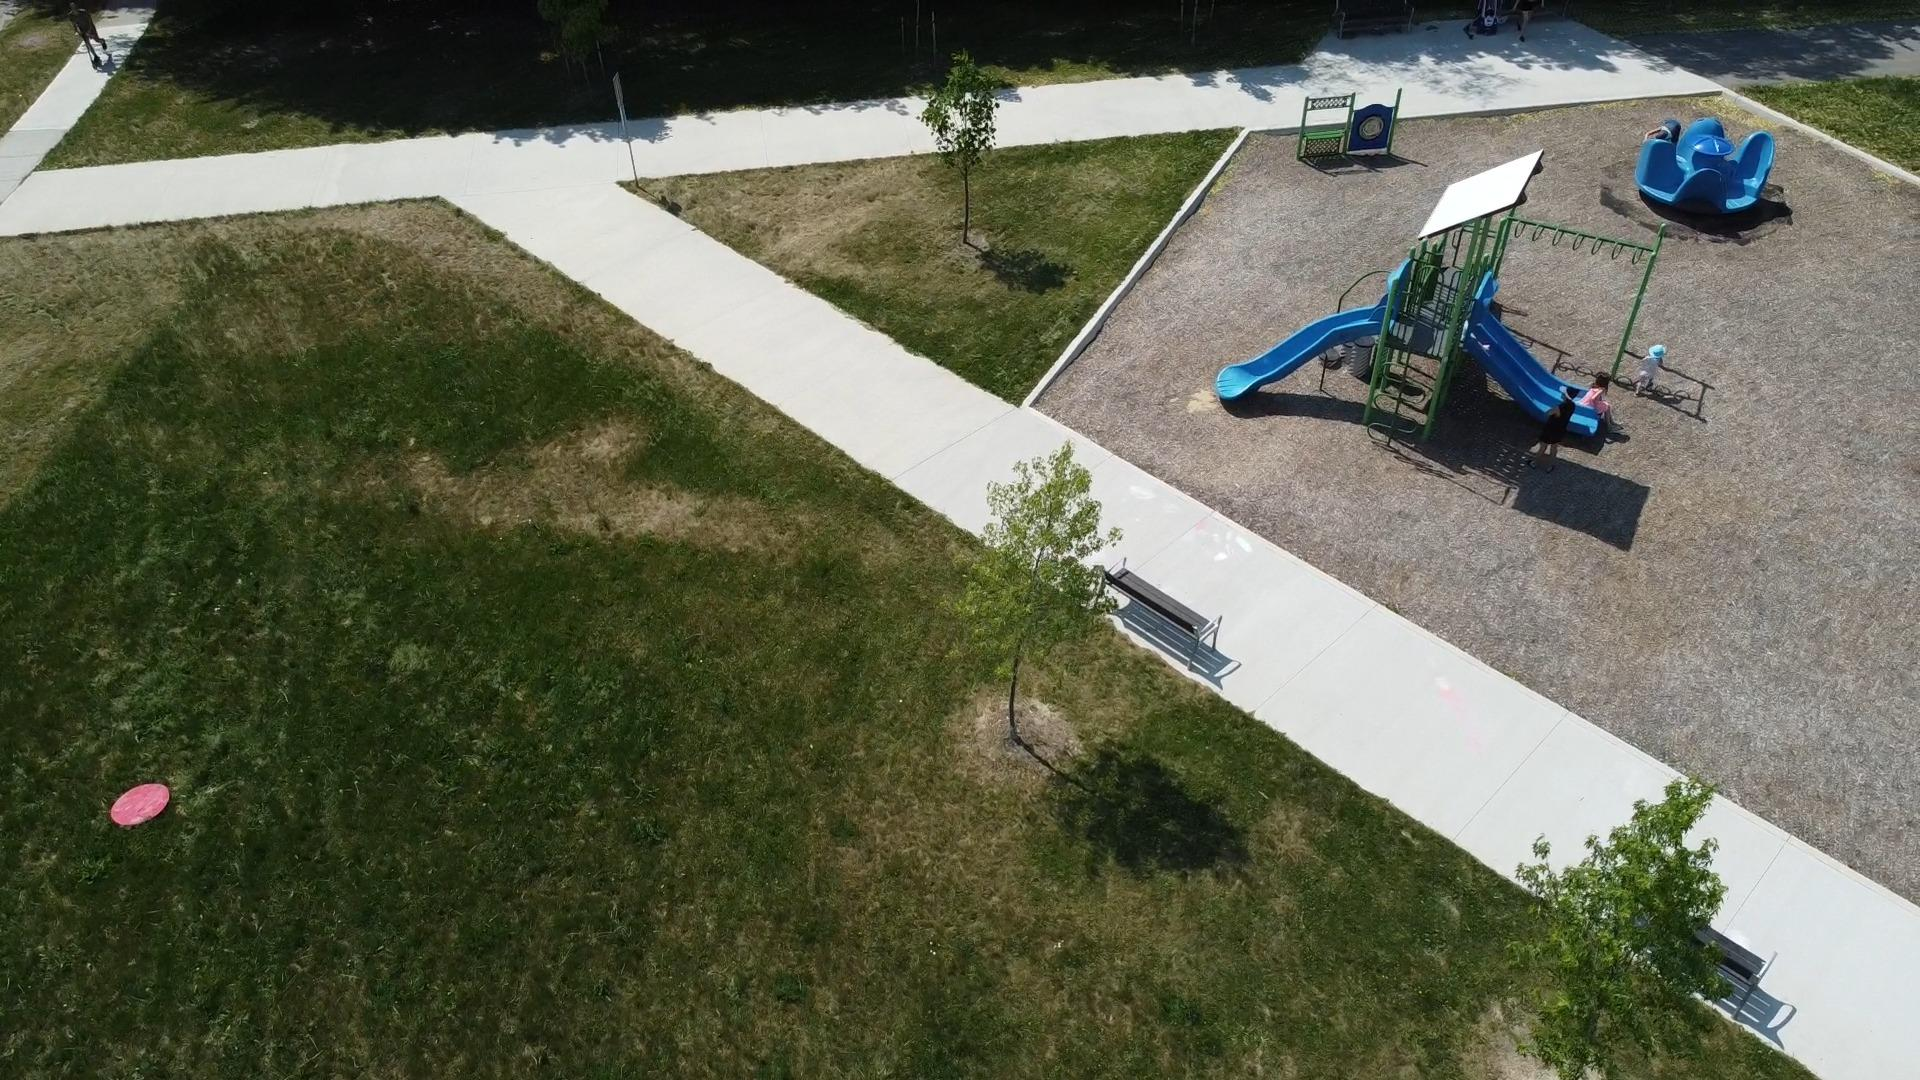Red: (108, 779, 171, 828)
